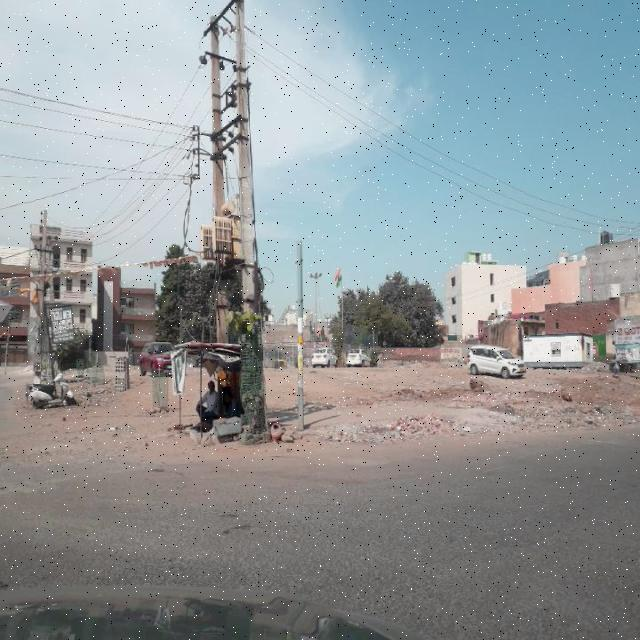D20: (29, 460, 576, 588)
